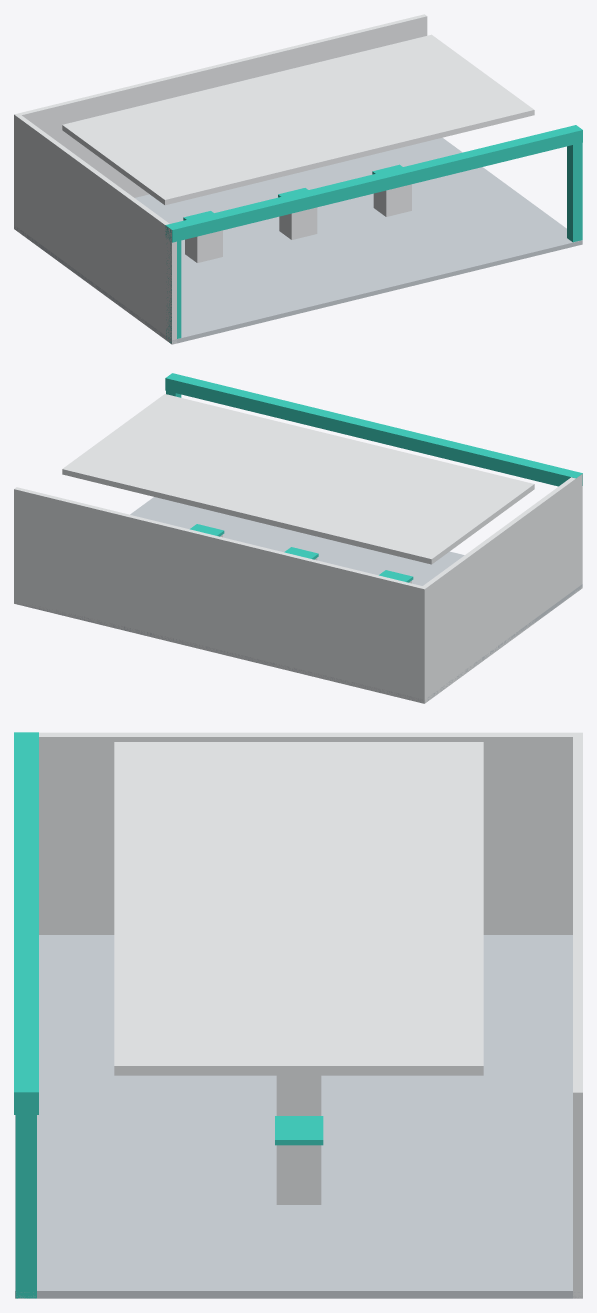
3 views of the same model, one above another, from view 1: azimuth 30°, elevation 25°; view 2: azimuth 150°, elevation 25°; view 3: azimuth 270°, elevation 25° (orthographic). The views are drawn at different scales.
Parts seen in each view (by area): view 1: Exhibition Booth Concept; view 2: Exhibition Booth Concept; view 3: Exhibition Booth Concept.
Boxes of the visible parts, x1=… form: Exhibition Booth Concept: x1=14, y1=14, x2=582, y2=344; Exhibition Booth Concept: x1=14, y1=373, x2=582, y2=703; Exhibition Booth Concept: x1=14, y1=732, x2=582, y2=1298.
Size of the model in its own units: 12 by 3.34 by 8.01.
